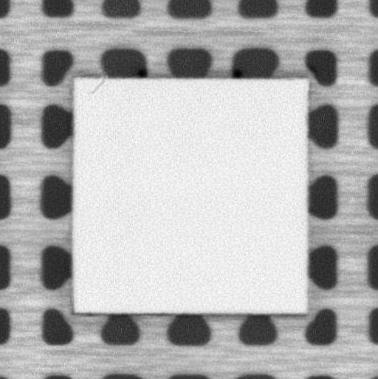DIE_CRACK: (89, 78, 106, 96)
